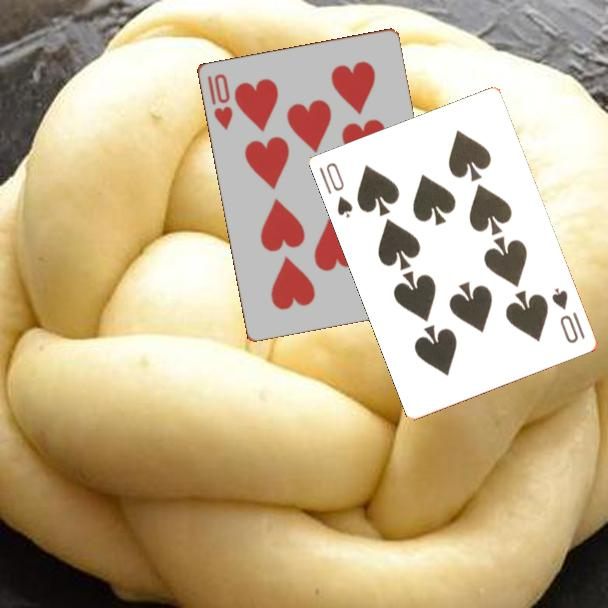h10: (204, 70, 235, 133)
s10: (548, 284, 588, 346), (316, 159, 356, 221)
